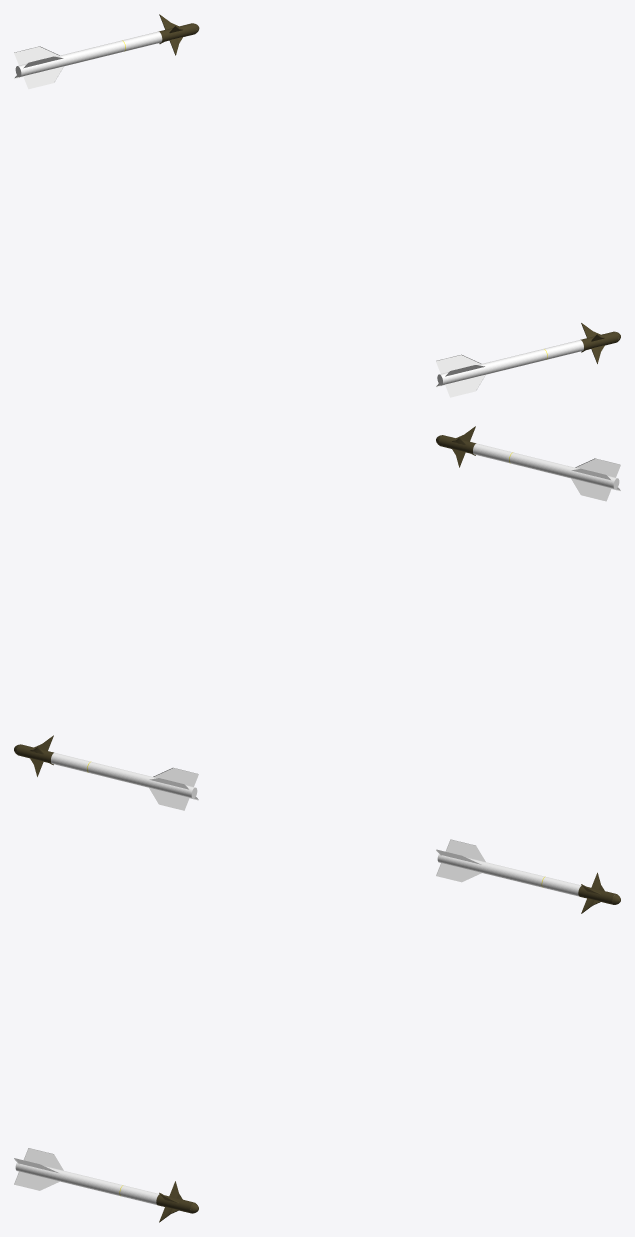
File: aim9fa18e1101.glb
The picture shows the model from 3 angles, top to bottom: view 1: azimuth 30°, elevation 25°; view 2: azimuth 150°, elevation 25°; view 3: azimuth 330°, elevation 25°; orthographic projection.
Parts seen in each view (by area): view 1: 円柱.005, 円柱.002; view 2: 円柱.002, 円柱.005; view 3: 円柱.005, 円柱.002.
Boxes of the visible parts, x1,y1,x2,y2 form: 円柱.005: (436,323,620,397); 円柱.002: (14,14,199,89); 円柱.002: (14,735,198,810); 円柱.005: (436,426,620,501); 円柱.005: (14,1148,198,1222); 円柱.002: (436,839,620,913).
Size of the model in its own units: 3.38 by 0.5497 by 14.27.
2 materials, 2 textured.
